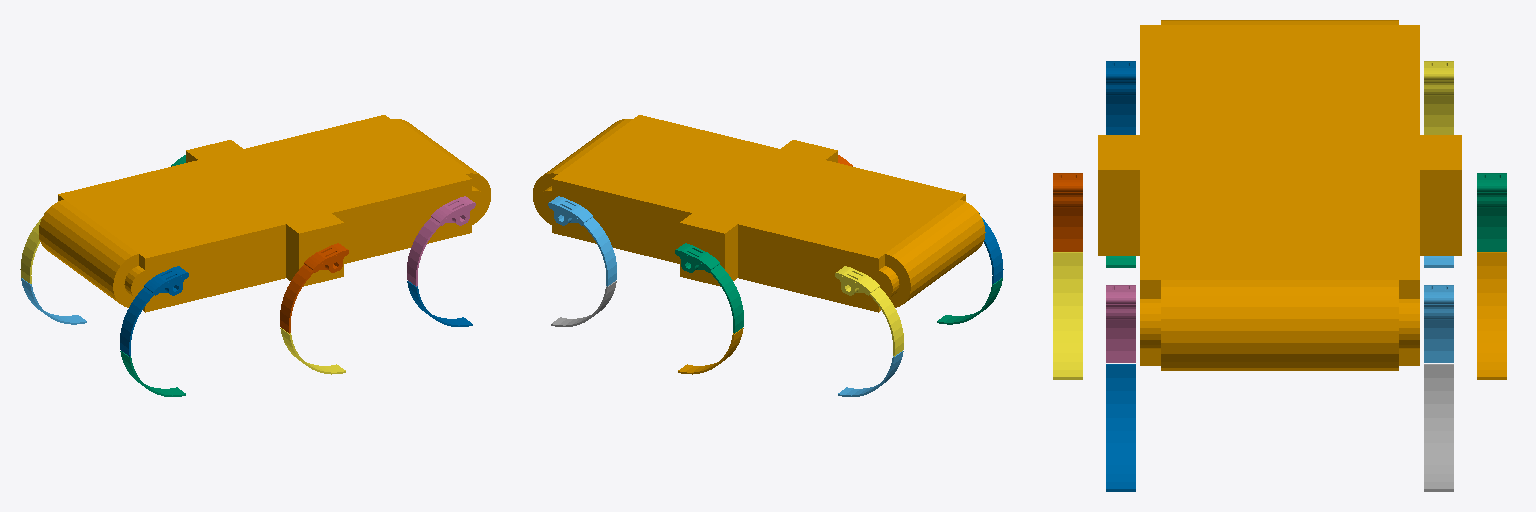
--- Render facts (derived) ---
Views: 3 orthographic renders of the robot side by side, from view 1: azimuth 30°, elevation 25°; view 2: azimuth 150°, elevation 25°; view 3: azimuth 270°, elevation 25°.
Model RHex with 13 links and 12 joints (12 revolute), rooted at link_body, posed all joints at 0.
Links seen in each view (by area): view 1: link_body, link_leg4Upper, link_leg5Upper, link_leg6Upper, link_leg3Upper; view 2: link_body, link_leg3Upper, link_leg2Upper, link_leg1Upper, link_leg4Upper; view 3: link_body, link_leg1Lower, link_leg2Lower, link_leg5Lower, link_leg6Lower, link_leg2Upper, link_leg5Upper, link_leg1Upper, link_leg6Upper, link_leg3Upper, link_leg4Upper.
Boxes of the visible links, x1,y1,x2,y2 form: link_body: [39, 115, 490, 312]; link_leg4Upper: [120, 266, 188, 356]; link_leg5Upper: [280, 243, 348, 333]; link_leg6Upper: [407, 196, 475, 286]; link_leg3Upper: [20, 213, 44, 283]; link_body: [533, 115, 985, 312]; link_leg3Upper: [835, 266, 903, 356]; link_leg2Upper: [675, 243, 743, 333]; link_leg1Upper: [548, 196, 616, 286]; link_leg4Upper: [979, 213, 1003, 283]; link_body: [1098, 20, 1461, 370]; link_leg1Lower: [1424, 364, 1453, 491]; link_leg2Lower: [1477, 252, 1506, 379]; link_leg5Lower: [1053, 252, 1082, 379]; link_leg6Lower: [1106, 364, 1135, 491]; link_leg2Upper: [1477, 173, 1506, 251]; link_leg5Upper: [1053, 173, 1082, 251]; link_leg1Upper: [1424, 285, 1453, 362]; link_leg6Upper: [1106, 285, 1135, 362]; link_leg3Upper: [1424, 61, 1453, 134]; link_leg4Upper: [1106, 61, 1135, 134].
Bounding box of the posed robot: 0.6617 × 0.428 × 0.2283 m (x, y, z).
Meshes: 3 distinct files referenced, 13 mesh visuals loaded (3 Collada DAE).

URDF robot description (RHex):
<?xml version="1.0"?>
  <robot name="RHex">

    <link name="link_body">
      <inertial>
        <origin xyz="0 0 0" rpy="0 0 0"/>
        <mass value="8.0"/>
        <inertia ixx="0.1110" ixy="0" ixz="0" iyy="0.5516" iyz="0" izz="0.6606"/>
      </inertial>
      <visual name="visual_body">
        <origin xyz="0 0 0" rpy="0 0 0"/>
        <geometry>
          <mesh filename="../meshes/rhex_body.dae" scale="1.0 1.0 1.0"/>
        </geometry>
      </visual>
      <collision name="collision_body">
        <origin xyz="0.0 0.0 0.0" rpy="0 0 0"/>
        <geometry>
          <box size="0.50 0.23 0.10"/>
        </geometry>
      </collision>
    </link>

    <link name="link_leg1Upper">
      <inertial>
        <origin xyz="0.0 0.0 -0.02" rpy="0 0 0"/>
        <mass value="0.2"/>
        <inertia ixx="0.002804" ixy="0.0" ixz="-0.002497" iyy="0.005951" iyz="0" izz="0.003613"/>
      </inertial>
      <visual name="visual_leg1Upper">
        <origin xyz="0 0 0" rpy="0 0 0"/>
        <geometry>
          <mesh filename="../meshes/rhex_upperleg.dae" scale="1.0 1.0 1.0"/>
        </geometry>
      </visual>
      <collision name="collision_leg1Upper1">
        <origin xyz="-0.0756 0.0 -0.0898" rpy="0 0 0"/>
        <geometry>
          <sphere radius="0.0075"/>
        </geometry>
      </collision>
      <collision name="collision_leg1Upper2">
        <origin xyz="-0.0754 0.0 -0.0744" rpy="0 0 0"/>
        <geometry>
          <sphere radius="0.0075"/>
        </geometry>
      </collision>
      <collision name="collision_leg1Upper3">
        <origin xyz="-0.0731 0.0 -0.0593" rpy="0 0 0"/>
        <geometry>
          <sphere radius="0.0075"/>
        </geometry>
      </collision>
      <collision name="collision_leg1Upper4">
        <origin xyz="-0.0683 0.0 -0.0448" rpy="0 0 0"/>
        <geometry>
          <sphere radius="0.0075"/>
        </geometry>
      </collision>
      <collision name="collision_leg1Upper5">
        <origin xyz="-0.0605 0.0 -0.0317" rpy="0 0 0"/>
        <geometry>
          <sphere radius="0.0075"/>
        </geometry>
      </collision>
      <collision name="collision_leg1Upper6">
        <origin xyz="-0.0510 0.0 -0.0189" rpy="0 0 0"/>
        <geometry>
          <sphere radius="0.0075"/>
        </geometry>
      </collision>
      <collision name="collision_leg1Upper7">
        <origin xyz="-0.0403 0.0 -0.0088" rpy="0 0 0"/>
        <geometry>
          <sphere radius="0.0075"/>
        </geometry>
      </collision>
      <collision name="collision_leg1Upper8">
        <origin xyz="-0.0239 0.0 -0.0001" rpy="0 0 0"/>
        <geometry>
          <sphere radius="0.0075"/>
        </geometry>
      </collision>
      <collision name="collision_leg1Upper9">
        <origin xyz="0.0015 0.0 0.0040" rpy="0 0 0"/>
        <geometry>
          <sphere radius="0.015"/>
        </geometry>
      </collision>
    </link>

    <link name="link_leg2Upper">
      <inertial>
        <origin xyz="-0.00414 -0.05547 -0.0001" rpy="0 0 0"/>
        <mass value="0.2"/>
        <inertia ixx="0.002804" ixy="0.0" ixz="-0.002497" iyy="0.005951" iyz="0" izz="0.003613"/>
      </inertial>
      <visual name="visual_leg2Upper">
        <origin xyz="0 0 0" rpy="0 0 0"/>
        <geometry>
          <mesh filename="../meshes/rhex_upperleg.dae" scale="1.0 1.0 1.0"/>
        </geometry>
      </visual>
      <collision name="collision_leg2Upper1">
        <origin xyz="-0.0756 0.0 -0.0898" rpy="0 0 0"/>
        <geometry>
          <sphere radius="0.0075"/>
        </geometry>
      </collision>
      <collision name="collision_leg2Upper2">
        <origin xyz="-0.0754 0.0 -0.0744" rpy="0 0 0"/>
        <geometry>
          <sphere radius="0.0075"/>
        </geometry>
      </collision>
      <collision name="collision_leg2Upper3">
        <origin xyz="-0.0731 0.0 -0.0593" rpy="0 0 0"/>
        <geometry>
          <sphere radius="0.0075"/>
        </geometry>
      </collision>
      <collision name="collision_leg2Upper4">
        <origin xyz="-0.0683 0.0 -0.0448" rpy="0 0 0"/>
        <geometry>
          <sphere radius="0.0075"/>
        </geometry>
      </collision>
      <collision name="collision_leg2Upper5">
        <origin xyz="-0.0605 0.0 -0.0317" rpy="0 0 0"/>
        <geometry>
          <sphere radius="0.0075"/>
        </geometry>
      </collision>
      <collision name="collision_leg2Upper6">
        <origin xyz="-0.0510 0.0 -0.0189" rpy="0 0 0"/>
        <geometry>
          <sphere radius="0.0075"/>
        </geometry>
      </collision>
      <collision name="collision_leg2Upper7">
        <origin xyz="-0.0403 0.0 -0.0088" rpy="0 0 0"/>
        <geometry>
          <sphere radius="0.0075"/>
        </geometry>
      </collision>
      <collision name="collision_leg2Upper8">
        <origin xyz="-0.0239 0.0 -0.0001" rpy="0 0 0"/>
        <geometry>
          <sphere radius="0.0075"/>
        </geometry>
      </collision>
      <collision name="collision_leg2Upper9">
        <origin xyz="0.0015 0.0 0.0040" rpy="0 0 0"/>
        <geometry>
          <sphere radius="0.015"/>
        </geometry>
      </collision>
    </link>

    <link name="link_leg3Upper">
      <inertial>
        <origin xyz="-0.00579 -0.04779 -0.0001" rpy="0 0 0"/>
        <mass value="0.2"/>
        <inertia ixx="0.002804" ixy="0.0" ixz="-0.002497" iyy="0.005951" iyz="0" izz="0.003613"/>
      </inertial>
      <visual name="visual_leg3Upper">
        <origin xyz="0 0 0" rpy="0 0 0"/>
        <geometry>
          <mesh filename="../meshes/rhex_upperleg.dae" scale="1.0 1.0 1.0"/>
        </geometry>
      </visual>
      <collision name="collision_leg3Upper1">
        <origin xyz="-0.0756 0.0 -0.0898" rpy="0 0 0"/>
        <geometry>
          <sphere radius="0.0075"/>
        </geometry>
      </collision>
      <collision name="collision_leg3Upper2">
        <origin xyz="-0.0754 0.0 -0.0744" rpy="0 0 0"/>
        <geometry>
          <sphere radius="0.0075"/>
        </geometry>
      </collision>
      <collision name="collision_leg3Upper3">
        <origin xyz="-0.0731 0.0 -0.0593" rpy="0 0 0"/>
        <geometry>
          <sphere radius="0.0075"/>
        </geometry>
      </collision>
      <collision name="collision_leg3Upper4">
        <origin xyz="-0.0683 0.0 -0.0448" rpy="0 0 0"/>
        <geometry>
          <sphere radius="0.0075"/>
        </geometry>
      </collision>
      <collision name="collision_leg3Upper5">
        <origin xyz="-0.0605 0.0 -0.0317" rpy="0 0 0"/>
        <geometry>
          <sphere radius="0.0075"/>
        </geometry>
      </collision>
      <collision name="collision_leg3Upper6">
        <origin xyz="-0.0510 0.0 -0.0189" rpy="0 0 0"/>
        <geometry>
          <sphere radius="0.0075"/>
        </geometry>
      </collision>
      <collision name="collision_leg3Upper7">
        <origin xyz="-0.0403 0.0 -0.0088" rpy="0 0 0"/>
        <geometry>
          <sphere radius="0.0075"/>
        </geometry>
      </collision>
      <collision name="collision_leg3Upper8">
        <origin xyz="-0.0239 0.0 -0.0001" rpy="0 0 0"/>
        <geometry>
          <sphere radius="0.0075"/>
        </geometry>
      </collision>
      <collision name="collision_leg3Upper9">
        <origin xyz="0.0015 0.0 0.0040" rpy="0 0 0"/>
        <geometry>
          <sphere radius="0.015"/>
        </geometry>
      </collision>
    </link>

    <link name="link_leg4Upper">
      <inertial>
        <origin xyz="0.00364 -0.0587 -0.0001" rpy="0 0 0"/>
        <mass value="0.2"/>
        <inertia ixx="0.002804" ixy="0.0" ixz="-0.002497" iyy="0.005951" iyz="0" izz="0.003613"/>
      </inertial>
      <visual name="visual_leg4Upper">
        <origin xyz="0 0 0" rpy="0 0 0"/>
        <geometry>
          <mesh filename="../meshes/rhex_upperleg.dae" scale="1.0 1.0 1.0"/>
        </geometry>
      </visual>
      <collision name="collision_leg4Upper1">
        <origin xyz="-0.0756 0.0 -0.0898" rpy="0 0 0"/>
        <geometry>
          <sphere radius="0.0075"/>
        </geometry>
      </collision>
      <collision name="collision_leg4Upper2">
        <origin xyz="-0.0754 0.0 -0.0744" rpy="0 0 0"/>
        <geometry>
          <sphere radius="0.0075"/>
        </geometry>
      </collision>
      <collision name="collision_leg4Upper3">
        <origin xyz="-0.0731 0.0 -0.0593" rpy="0 0 0"/>
        <geometry>
          <sphere radius="0.0075"/>
        </geometry>
      </collision>
      <collision name="collision_leg4Upper4">
        <origin xyz="-0.0683 0.0 -0.0448" rpy="0 0 0"/>
        <geometry>
          <sphere radius="0.0075"/>
        </geometry>
      </collision>
      <collision name="collision_leg4Upper5">
        <origin xyz="-0.0605 0.0 -0.0317" rpy="0 0 0"/>
        <geometry>
          <sphere radius="0.0075"/>
        </geometry>
      </collision>
      <collision name="collision_leg4Upper6">
        <origin xyz="-0.0510 0.0 -0.0189" rpy="0 0 0"/>
        <geometry>
          <sphere radius="0.0075"/>
        </geometry>
      </collision>
      <collision name="collision_leg4Upper7">
        <origin xyz="-0.0403 0.0 -0.0088" rpy="0 0 0"/>
        <geometry>
          <sphere radius="0.0075"/>
        </geometry>
      </collision>
      <collision name="collision_leg4Upper8">
        <origin xyz="-0.0239 0.0 -0.0001" rpy="0 0 0"/>
        <geometry>
          <sphere radius="0.0075"/>
        </geometry>
      </collision>
      <collision name="collision_leg4Upper9">
        <origin xyz="0.0015 0.0 0.0040" rpy="0 0 0"/>
        <geometry>
          <sphere radius="0.015"/>
        </geometry>
      </collision>
    </link>

    <link name="link_leg5Upper">
      <inertial>
        <origin xyz="-0.01428 -0.0677 -0.0001" rpy="0 0 0"/>
        <mass value="0.2"/>
        <inertia ixx="0.002804" ixy="0.0" ixz="-0.002497" iyy="0.005951" iyz="0" izz="0.003613"/>
      </inertial>
      <visual name="visual_leg5Upper">
        <origin xyz="0 0 0" rpy="0 0 0"/>
        <geometry>
          <mesh filename="../meshes/rhex_upperleg.dae" scale="1.0 1.0 1.0"/>
        </geometry>
      </visual>
      <collision name="collision_leg5Upper1">
        <origin xyz="-0.0756 0.0 -0.0898" rpy="0 0 0"/>
        <geometry>
          <sphere radius="0.0075"/>
        </geometry>
      </collision>
      <collision name="collision_leg5Upper2">
        <origin xyz="-0.0754 0.0 -0.0744" rpy="0 0 0"/>
        <geometry>
          <sphere radius="0.0075"/>
        </geometry>
      </collision>
      <collision name="collision_leg5Upper3">
        <origin xyz="-0.0731 0.0 -0.0593" rpy="0 0 0"/>
        <geometry>
          <sphere radius="0.0075"/>
        </geometry>
      </collision>
      <collision name="collision_leg5Upper4">
        <origin xyz="-0.0683 0.0 -0.0448" rpy="0 0 0"/>
        <geometry>
          <sphere radius="0.0075"/>
        </geometry>
      </collision>
      <collision name="collision_leg5Upper5">
        <origin xyz="-0.0605 0.0 -0.0317" rpy="0 0 0"/>
        <geometry>
          <sphere radius="0.0075"/>
        </geometry>
      </collision>
      <collision name="collision_leg5Upper6">
        <origin xyz="-0.0510 0.0 -0.0189" rpy="0 0 0"/>
        <geometry>
          <sphere radius="0.0075"/>
        </geometry>
      </collision>
      <collision name="collision_leg5Upper7">
        <origin xyz="-0.0403 0.0 -0.0088" rpy="0 0 0"/>
        <geometry>
          <sphere radius="0.0075"/>
        </geometry>
      </collision>
      <collision name="collision_leg5Upper8">
        <origin xyz="-0.0239 0.0 -0.0001" rpy="0 0 0"/>
        <geometry>
          <sphere radius="0.0075"/>
        </geometry>
      </collision>
      <collision name="collision_leg5Upper9">
        <origin xyz="0.0015 0.0 0.0040" rpy="0 0 0"/>
        <geometry>
          <sphere radius="0.015"/>
        </geometry>
      </collision>
    </link>

    <link name="link_leg6Upper">
      <inertial>
        <origin xyz="-0.03331 -0.08349 -0.0001" rpy="0 0 0"/>
        <mass value="0.2"/>
        <inertia ixx="0.002804" ixy="0.0" ixz="-0.002497" iyy="0.005951" iyz="0" izz="0.003613"/>
      </inertial>
      <visual name="visual_leg6Upper">
        <origin xyz="0 0 0" rpy="0 0 0"/>
        <geometry>
          <mesh filename="../meshes/rhex_upperleg.dae" scale="1.0 1.0 1.0"/>
        </geometry>
      </visual>
      <collision name="collision_leg6Upper1">
        <origin xyz="-0.0756 0.0 -0.0898" rpy="0 0 0"/>
        <geometry>
          <sphere radius="0.0075"/>
        </geometry>
      </collision>
      <collision name="collision_leg6Upper2">
        <origin xyz="-0.0754 0.0 -0.0744" rpy="0 0 0"/>
        <geometry>
          <sphere radius="0.0075"/>
        </geometry>
      </collision>
      <collision name="collision_leg6Upper3">
        <origin xyz="-0.0731 0.0 -0.0593" rpy="0 0 0"/>
        <geometry>
          <sphere radius="0.0075"/>
        </geometry>
      </collision>
      <collision name="collision_leg6Upper4">
        <origin xyz="-0.0683 0.0 -0.0448" rpy="0 0 0"/>
        <geometry>
          <sphere radius="0.0075"/>
        </geometry>
      </collision>
      <collision name="collision_leg6Upper5">
        <origin xyz="-0.0605 0.0 -0.0317" rpy="0 0 0"/>
        <geometry>
          <sphere radius="0.0075"/>
        </geometry>
      </collision>
      <collision name="collision_leg6Upper6">
        <origin xyz="-0.0510 0.0 -0.0189" rpy="0 0 0"/>
        <geometry>
          <sphere radius="0.0075"/>
        </geometry>
      </collision>
      <collision name="collision_leg6Upper7">
        <origin xyz="-0.0403 0.0 -0.0088" rpy="0 0 0"/>
        <geometry>
          <sphere radius="0.0075"/>
        </geometry>
      </collision>
      <collision name="collision_leg6Upper8">
        <origin xyz="-0.0239 0.0 -0.0001" rpy="0 0 0"/>
        <geometry>
          <sphere radius="0.0075"/>
        </geometry>
      </collision>
      <collision name="collision_leg6Upper9">
        <origin xyz="0.0015 0.0 0.0040" rpy="0 0 0"/>
        <geometry>
          <sphere radius="0.015"/>
        </geometry>
      </collision>
    </link>

    <joint name="hip_joint1" type="revolute">
      <origin xyz="0.25 0.15 0" rpy="0 0 0"/>
      <parent link="link_body"/>
      <child link="link_leg1Upper"/>
      <axis xyz="0 -1 0"/>
      <limit  effort="20" velocity="25"/>
    </joint>

    <joint name="hip_joint2" type="revolute">
      <origin xyz="0 0.20 0" rpy="0 0 0"/>
      <parent link="link_body"/>
      <child link="link_leg2Upper"/>
      <axis xyz="0 -1 0"/>
      <limit  effort="20" velocity="25"/>
    </joint>

    <joint name="hip_joint3" type="revolute">
      <origin xyz="-0.25 0.15 0" rpy="0 0 0"/>
      <parent link="link_body"/>
      <child link="link_leg3Upper"/>
      <axis xyz="0 -1 0"/>
      <limit  effort="20" velocity="25"/>
    </joint>

    <joint name="hip_joint4" type="revolute">
      <origin xyz="-0.25 -0.15 0" rpy="0 0 0"/>
      <parent link="link_body"/>
      <child link="link_leg4Upper"/>
      <axis xyz="0 -1 0"/>
      <limit  effort="20" velocity="25"/>
    </joint>

    <joint name="hip_joint5" type="revolute">
      <origin xyz="0 -0.20 0" rpy="0 0 0"/>
      <parent link="link_body"/>
      <child link="link_leg5Upper"/>
      <axis xyz="0 -1 0"/>
      <limit  effort="20" velocity="25"/>
    </joint>

    <joint name="hip_joint6" type="revolute">
      <origin xyz="0.25 -0.15 0" rpy="0 0 0"/>
      <parent link="link_body"/>
      <child link="link_leg6Upper"/>
      <axis xyz="0 -1 0"/>
      <limit  effort="20" velocity="25"/>
    </joint>

    <link name="link_leg1Lower">
      <inertial>
        <origin xyz="-0.00261 -0.02874 -0.0001" rpy="0 0 0"/>
        <mass value="0.050"/>
        <inertia ixx="0.000892" ixy="0.000855" ixz="0" iyy="0.001118" iyz="0" izz="0.001855"/>
      </inertial>
      <visual name="visual_leg1Lower">
        <origin xyz="0 0 0" rpy="0 0 0"/>
        <geometry>
          <mesh filename="../meshes/rhex_lowerleg.dae" scale="1.0 1.0 1.0"/>
        </geometry>
      </visual>
      <collision name="collision_leg1Lower1">
        <origin xyz="0.095 0.0 -0.085" rpy="0 0 0"/>
        <geometry>
          <sphere radius="0.0050"/>
        </geometry>
      </collision>
      <collision name="collision_leg1Lower2">
        <origin xyz="0.08468 0.0 -0.08254" rpy="0 0 0"/>
        <geometry>
          <sphere radius="0.0075"/>
        </geometry>
      </collision>
      <collision name="collision_leg1Lower3">
        <origin xyz="0.06998 0.0 -0.07874" rpy="0 0 0"/>
        <geometry>
          <sphere radius="0.0075"/>
        </geometry>
      </collision>
      <collision name="collision_leg1Lower4">
        <origin xyz="0.05660 0.0 -0.07359" rpy="0 0 0"/>
        <geometry>
          <sphere radius="0.0075"/>
        </geometry>
      </collision>
      <collision name="collision_leg1Lower5">
        <origin xyz="0.04344 0.0 -0.06553" rpy="0 0 0"/>
        <geometry>
          <sphere radius="0.0075"/>
        </geometry>
      </collision>
      <collision name="collision_leg1Lower6">
        <origin xyz="0.03148 0.0 -0.05552" rpy="0 0 0"/>
        <geometry>
          <sphere radius="0.0075"/>
        </geometry>
      </collision>
      <collision name="collision_leg1Lower7">
        <origin xyz="0.02374 0.0 -0.04531" rpy="0 0 0"/>
        <geometry>
          <sphere radius="0.0075"/>
        </geometry>
      </collision>
      <collision name="collision_leg1Lower8">
        <origin xyz="0.01599 0.0 -0.03279" rpy="0 0 0"/>
        <geometry>
          <sphere radius="0.0075"/>
        </geometry>
      </collision>
      <collision name="collision_leg1Lower9">
        <origin xyz="0.01117 0.0 -0.01897" rpy="0 0 0"/>
        <geometry>
          <sphere radius="0.0075"/>
        </geometry>
      </collision>
    </link>

    <link name="link_leg2Lower">
      <inertial>
        <origin xyz="-0.00261 -0.02874 -0.0001" rpy="0 0 0"/>
        <mass value="0.050"/>
        <inertia ixx="0.000892" ixy="0.000855" ixz="0" iyy="0.001118" iyz="0" izz="0.001855"/>
      </inertial>
      <visual name="visual_leg2Lower">
        <origin xyz="0 0 0" rpy="0 0 0"/>
        <geometry>
          <mesh filename="../meshes/rhex_lowerleg.dae" scale="1.0 1.0 1.0"/>
        </geometry>
      </visual>
      <collision name="collision_leg2Lower1">
        <origin xyz="0.095 0.0 -0.085" rpy="0 0 0"/>
        <geometry>
          <sphere radius="0.0050"/>
        </geometry>
      </collision>
      <collision name="collision_leg2Lower2">
        <origin xyz="0.08468 0.0 -0.08254" rpy="0 0 0"/>
        <geometry>
          <sphere radius="0.0075"/>
        </geometry>
      </collision>
      <collision name="collision_leg2Lower3">
        <origin xyz="0.06998 0.0 -0.07874" rpy="0 0 0"/>
        <geometry>
          <sphere radius="0.0075"/>
        </geometry>
      </collision>
      <collision name="collision_leg2Lower4">
        <origin xyz="0.05660 0.0 -0.07359" rpy="0 0 0"/>
        <geometry>
          <sphere radius="0.0075"/>
        </geometry>
      </collision>
      <collision name="collision_leg2Lower5">
        <origin xyz="0.04344 0.0 -0.06553" rpy="0 0 0"/>
        <geometry>
          <sphere radius="0.0075"/>
        </geometry>
      </collision>
      <collision name="collision_leg2Lower6">
        <origin xyz="0.03148 0.0 -0.05552" rpy="0 0 0"/>
        <geometry>
          <sphere radius="0.0075"/>
        </geometry>
      </collision>
      <collision name="collision_leg2Lower7">
        <origin xyz="0.02374 0.0 -0.04531" rpy="0 0 0"/>
        <geometry>
          <sphere radius="0.0075"/>
        </geometry>
      </collision>
      <collision name="collision_leg2Lower8">
        <origin xyz="0.01599 0.0 -0.03279" rpy="0 0 0"/>
        <geometry>
          <sphere radius="0.0075"/>
        </geometry>
      </collision>
      <collision name="collision_leg2Lower9">
        <origin xyz="0.01117 0.0 -0.01897" rpy="0 0 0"/>
        <geometry>
          <sphere radius="0.0075"/>
        </geometry>
      </collision>
    </link>

    <link name="link_leg3Lower">
      <inertial>
        <origin xyz="-0.00261 -0.02874 -0.0001" rpy="0 0 0"/>
        <mass value="0.050"/>
        <inertia ixx="0.000892" ixy="0.000855" ixz="0" iyy="0.001118" iyz="0" izz="0.001855"/>
      </inertial>
      <visual name="visual_leg3Lower">
        <origin xyz="0 0 0" rpy="0 0 0"/>
        <geometry>
          <mesh filename="../meshes/rhex_lowerleg.dae" scale="1.0 1.0 1.0"/>
        </geometry>
      </visual>
      <collision name="collision_leg3Lower1">
        <origin xyz="0.095 0.0 -0.085" rpy="0 0 0"/>
        <geometry>
          <sphere radius="0.0050"/>
        </geometry>
      </collision>
      <collision name="collision_leg3Lower2">
        <origin xyz="0.08468 0.0 -0.08254" rpy="0 0 0"/>
        <geometry>
          <sphere radius="0.0075"/>
        </geometry>
      </collision>
      <collision name="collision_leg3Lower3">
        <origin xyz="0.06998 0.0 -0.07874" rpy="0 0 0"/>
        <geometry>
          <sphere radius="0.0075"/>
        </geometry>
      </collision>
      <collision name="collision_leg3Lower4">
        <origin xyz="0.05660 0.0 -0.07359" rpy="0 0 0"/>
        <geometry>
          <sphere radius="0.0075"/>
        </geometry>
      </collision>
      <collision name="collision_leg3Lower5">
        <origin xyz="0.04344 0.0 -0.06553" rpy="0 0 0"/>
        <geometry>
          <sphere radius="0.0075"/>
        </geometry>
      </collision>
      <collision name="collision_leg3Lower6">
        <origin xyz="0.03148 0.0 -0.05552" rpy="0 0 0"/>
        <geometry>
          <sphere radius="0.0075"/>
        </geometry>
      </collision>
      <collision name="collision_leg3Lower7">
        <origin xyz="0.02374 0.0 -0.04531" rpy="0 0 0"/>
        <geometry>
          <sphere radius="0.0075"/>
        </geometry>
      </collision>
      <collision name="collision_leg3Lower8">
        <origin xyz="0.01599 0.0 -0.03279" rpy="0 0 0"/>
        <geometry>
          <sphere radius="0.0075"/>
        </geometry>
      </collision>
      <collision name="collision_leg3Lower9">
        <origin xyz="0.01117 0.0 -0.01897" rpy="0 0 0"/>
        <geometry>
          <sphere radius="0.0075"/>
        </geometry>
      </collision>
    </link>

    <link name="link_leg4Lower">
      <inertial>
        <origin xyz="-0.00261 -0.02874 -0.0001" rpy="0 0 0"/>
        <mass value="0.050"/>
        <inertia ixx="0.000892" ixy="0.000855" ixz="0" iyy="0.001118" iyz="0" izz="0.001855"/>
      </inertial>
      <visual name="visual_leg4Lower">
        <origin xyz="0 0 0" rpy="0 0 0"/>
        <geometry>
          <mesh filename="../meshes/rhex_lowerleg.dae" scale="1.0 1.0 1.0"/>
        </geometry>
      </visual>
      <collision name="collision_leg4Lower1">
        <origin xyz="0.095 0.0 -0.085" rpy="0 0 0"/>
        <geometry>
          <sphere radius="0.0050"/>
        </geometry>
      </collision>
      <collision name="collision_leg4Lower2">
        <origin xyz="0.08468 0.0 -0.08254" rpy="0 0 0"/>
        <geometry>
          <sphere radius="0.0075"/>
        </geometry>
      </collision>
      <collision name="collision_leg4Lower3">
        <origin xyz="0.06998 0.0 -0.07874" rpy="0 0 0"/>
        <geometry>
          <sphere radius="0.0075"/>
        </geometry>
      </collision>
      <collision name="collision_leg4Lower4">
        <origin xyz="0.05660 0.0 -0.07359" rpy="0 0 0"/>
        <geometry>
          <sphere radius="0.0075"/>
        </geometry>
      </collision>
      <collision name="collision_leg4Lower5">
        <origin xyz="0.04344 0.0 -0.06553" rpy="0 0 0"/>
        <geometry>
          <sphere radius="0.0075"/>
        </geometry>
      </collision>
      <collision name="collision_leg4Lower6">
        <origin xyz="0.03148 0.0 -0.05552" rpy="0 0 0"/>
        <geometry>
          <sphere radius="0.0075"/>
        </geometry>
      </collision>
      <collision name="collision_leg4Lower7">
        <origin xyz="0.02374 0.0 -0.04531" rpy="0 0 0"/>
        <geometry>
          <sphere radius="0.0075"/>
        </geometry>
      </collision>
      <collision name="collision_leg4Lower8">
        <origin xyz="0.01599 0.0 -0.03279" rpy="0 0 0"/>
        <geometry>
          <sphere radius="0.0075"/>
        </geometry>
      </collision>
      <collision name="collision_leg4Lower9">
        <origin xyz="0.01117 0.0 -0.01897" rpy="0 0 0"/>
        <geometry>
          <sphere radius="0.0075"/>
        </geometry>
      </collision>
    </link>

    <link name="link_leg5Lower">
      <inertial>
        <origin xyz="-0.00261 -0.02874 -0.0001" rpy="0 0 0"/>
        <mass value="0.050"/>
        <inertia ixx="0.000892" ixy="0.000855" ixz="0" iyy="0.001118" iyz="0" izz="0.001855"/>
      </inertial>
      <visual name="visual_leg5Lower">
        <origin xyz="0 0 0" rpy="0 0 0"/>
        <geometry>
          <mesh filename="../meshes/rhex_lowerleg.dae" scale="1.0 1.0 1.0"/>
        </geometry>
      </visual>
      <collision name="collision_leg5Lower1">
        <origin xyz="0.095 0.0 -0.085" rpy="0 0 0"/>
        <geometry>
          <sphere radius="0.0050"/>
        </geometry>
      </collision>
      <collision name="collision_leg5Lower2">
        <origin xyz="0.08468 0.0 -0.08254" rpy="0 0 0"/>
        <geometry>
          <sphere radius="0.0075"/>
        </geometry>
      </collision>
      <collision name="collision_leg5Lower3">
        <origin xyz="0.06998 0.0 -0.07874" rpy="0 0 0"/>
        <geometry>
          <sphere radius="0.0075"/>
        </geometry>
      </collision>
      <collision name="collision_leg5Lower4">
        <origin xyz="0.05660 0.0 -0.07359" rpy="0 0 0"/>
        <geometry>
          <sphere radius="0.0075"/>
        </geometry>
      </collision>
      <collision name="collision_leg5Lower5">
        <origin xyz="0.04344 0.0 -0.06553" rpy="0 0 0"/>
        <geometry>
          <sphere radius="0.0075"/>
        </geometry>
      </collision>
      <collision name="collision_leg5Lower6">
        <origin xyz="0.03148 0.0 -0.05552" rpy="0 0 0"/>
        <geometry>
          <sphere radius="0.0075"/>
        </geometry>
      </collision>
      <collision name="collision_leg5Lower7">
        <origin xyz="0.02374 0.0 -0.04531" rpy="0 0 0"/>
        <geometry>
          <sphere radius="0.0075"/>
        </geometry>
      </collision>
      <collision name="collision_leg5Lower8">
        <origin xyz="0.01599 0.0 -0.03279" rpy="0 0 0"/>
        <geometry>
          <sphere radius="0.0075"/>
        </geometry>
      </collision>
      <collision name="collision_leg5Lower9">
        <origin xyz="0.01117 0.0 -0.01897" rpy="0 0 0"/>
        <geometry>
          <sphere radius="0.0075"/>
        </geometry>
      </collision>
    </link>

    <link name="link_leg6Lower">
      <inertial>
        <origin xyz="-0.00261 -0.02874 -0.0001" rpy="0 0 0"/>
        <mass value="0.050"/>
        <inertia ixx="0.000892" ixy="0.000855" ixz="0" iyy="0.001118" iyz="0" izz="0.001855"/>
      </inertial>
      <visual name="visual_leg6Lower">
        <origin xyz="0 0 0" rpy="0 0 0"/>
        <geometry>
          <mesh filename="../meshes/rhex_lowerleg.dae" scale="1.0 1.0 1.0"/>
        </geometry>
      </visual>
      <collision name="collision_leg6Lower1">
        <origin xyz="0.095 0.0 -0.085" rpy="0 0 0"/>
        <geometry>
          <sphere radius="0.0050"/>
        </geometry>
      </collision>
      <collision name="collision_leg6Lower2">
        <origin xyz="0.08468 0.0 -0.08254" rpy="0 0 0"/>
        <geometry>
          <sphere radius="0.0075"/>
        </geometry>
      </collision>
      <collision name="collision_leg6Lower3">
        <origin xyz="0.06998 0.0 -0.07874" rpy="0 0 0"/>
        <geometry>
          <sphere radius="0.0075"/>
        </geometry>
      </collision>
      <collision name="collision_leg6Lower4">
        <origin xyz="0.05660 0.0 -0.07359" rpy="0 0 0"/>
        <geometry>
          <sphere radius="0.0075"/>
        </geometry>
      </collision>
      <collision name="collision_leg6Lower5">
        <origin xyz="0.04344 0.0 -0.06553" rpy="0 0 0"/>
        <geometry>
          <sphere radius="0.0075"/>
        </geometry>
      </collision>
      <collision name="collision_leg6Lower6">
        <origin xyz="0.03148 0.0 -0.05552" rpy="0 0 0"/>
        <geometry>
          <sphere radius="0.0075"/>
        </geometry>
      </collision>
      <collision name="collision_leg6Lower7">
        <origin xyz="0.02374 0.0 -0.04531" rpy="0 0 0"/>
        <geometry>
          <sphere radius="0.0075"/>
        </geometry>
      </collision>
      <collision name="collision_leg6Lower8">
        <origin xyz="0.01599 0.0 -0.03279" rpy="0 0 0"/>
        <geometry>
          <sphere radius="0.0075"/>
        </geometry>
      </collision>
      <collision name="collision_leg6Lower9">
        <origin xyz="0.01117 0.0 -0.01897" rpy="0 0 0"/>
        <geometry>
          <sphere radius="0.0075"/>
        </geometry>
      </collision>
    </link>

    <joint name="Leg1Joint" type="revolute">
      <origin xyz="-0.080 0.0 -0.095" rpy="0 0 0"/>
      <parent link="link_leg1Upper"/>
      <child link="link_leg1Lower"/>
      <axis xyz="0 -1 0"/>
      <limit effort="0.0" lower="-0.2" upper="0.2" velocity="0.0"/>
      <dynamics damping="99.0" stiffness="99999"/>
    </joint>

    <joint name="Leg2Joint" type="revolute">
      <origin xyz="-0.080 0.0 -0.095" rpy="0 0 0"/>
      <parent link="link_leg2Upper"/>
      <child link="link_leg2Lower"/>
      <axis xyz="0 -1 0"/>
      <limit effort="0.0" lower="-0.2" upper="0.2" velocity="0.0"/>
      <dynamics damping="99.0" stiffness="99999"/>
    </joint>

    <joint name="Leg3Joint" type="revolute">
      <origin xyz="-0.080 0.0 -0.095" rpy="0 0 0"/>
      <parent link="link_leg3Upper"/>
      <child link="link_leg3Lower"/>
      <axis xyz="0 -1 0"/>
      <limit effort="0.0" lower="-0.2" upper="0.2" velocity="0.0"/>
      <dynamics damping="99.0" stiffness="99999"/>
    </joint>

    <joint name="Leg4Joint" type="revolute">
      <origin xyz="-0.080 0.0 -0.095" rpy="0 0 0"/>
      <parent link="link_leg4Upper"/>
      <child link="link_leg4Lower"/>
      <axis xyz="0 -1 0"/>
      <limit effort="0.0" lower="-0.2" upper="0.2" velocity="0.0"/>
      <dynamics damping="99.0" stiffness="99999"/>
    </joint>

    <joint name="Leg5Joint" type="revolute">
      <origin xyz="-0.080 0.0 -0.095" rpy="0 0 0"/>
      <parent link="link_leg5Upper"/>
      <child link="link_leg5Lower"/>
      <axis xyz="0 -1 0"/>
      <limit effort="0.0" lower="-0.2" upper="0.2" velocity="0.0"/>
      <dynamics damping="99.0" stiffness="99999"/>
    </joint>

    <joint name="Leg6Joint" type="revolute">
      <origin xyz="-0.080 0.0 -0.095" rpy="0 0 0"/>
      <parent link="link_leg6Upper"/>
      <child link="link_leg6Lower"/>
      <axis xyz="0 -1 0"/>
      <limit effort="0.0" lower="-0.2" upper="0.2" velocity="0.0"/>
      <dynamics damping="99.0" stiffness="99999"/>
    </joint>

    <!--link name="link_cube">
      <inertial>
        <origin xyz="0 0 0" rpy="0 0 0"/>
        <mass value="2.5"/>
        <inertia ixx="0.1" ixy="0" ixz="0" iyy="0.1" iyz="0" izz="0.1"/>
      </inertial>
      <visual name="visual_cube">
        <origin xyz="0 0 0" rpy="0 0 0"/>
        <geometry>
          <box size="0.10 0.10 0.10"/>
        </geometry>
      </visual>
      <collision name="collision_cube">
        <origin xyz="0.0 0.0 0.0" rpy="0 0 0"/>
        <geometry>
          <box size="0.10 0.10 0.10"/>
        </geometry>
      </collision>
    </link>

    <joint name="base_to_cube" type="fixed">
        <parent link="link_body"/>
        <child link="link_cube"/>
        <origin rpy="0 0 0" xyz="0 0 0.10"/>
    </joint!-->

  </robot>
